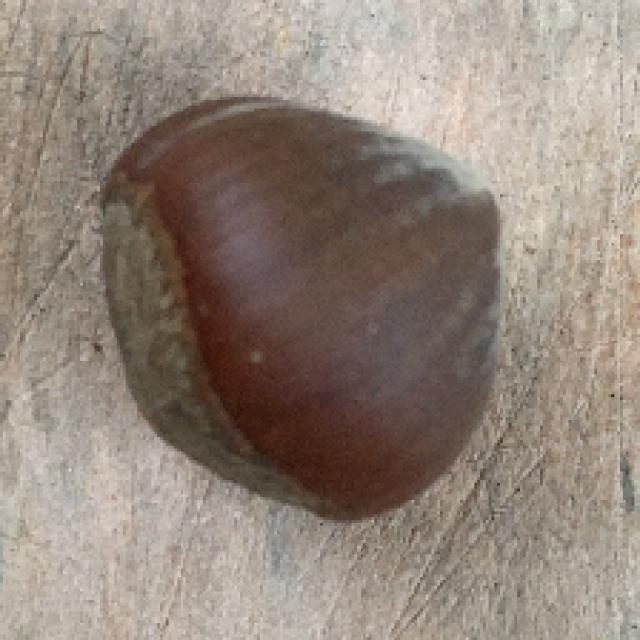damagedHazelnut: (96, 85, 516, 534)
